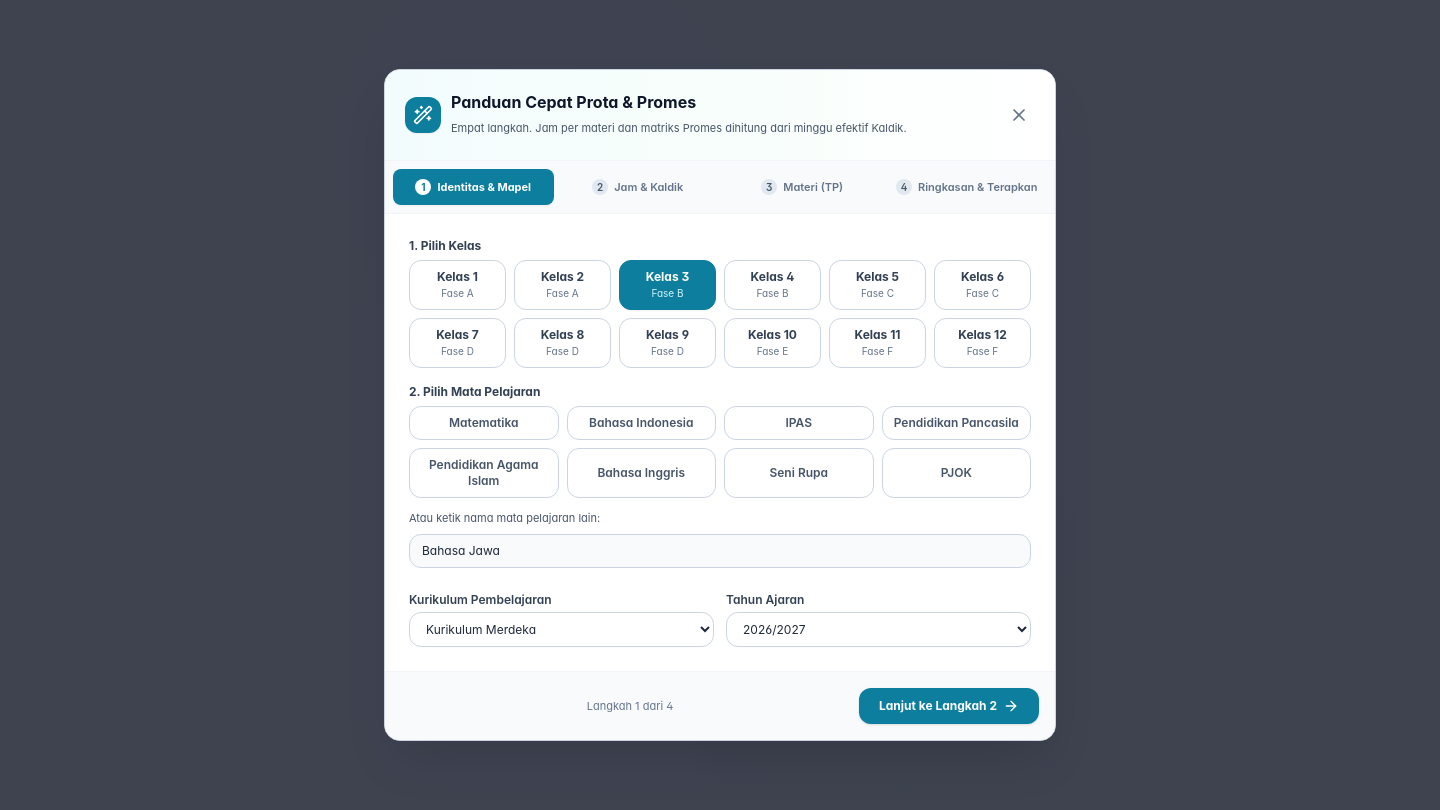
ProtaPromesWizardModal › shows the AI error and lets the teacher try again
Step 1. Click the button "Lanjut ke Langkah 2" → click(949, 706), box 859,688 -> 1039,724
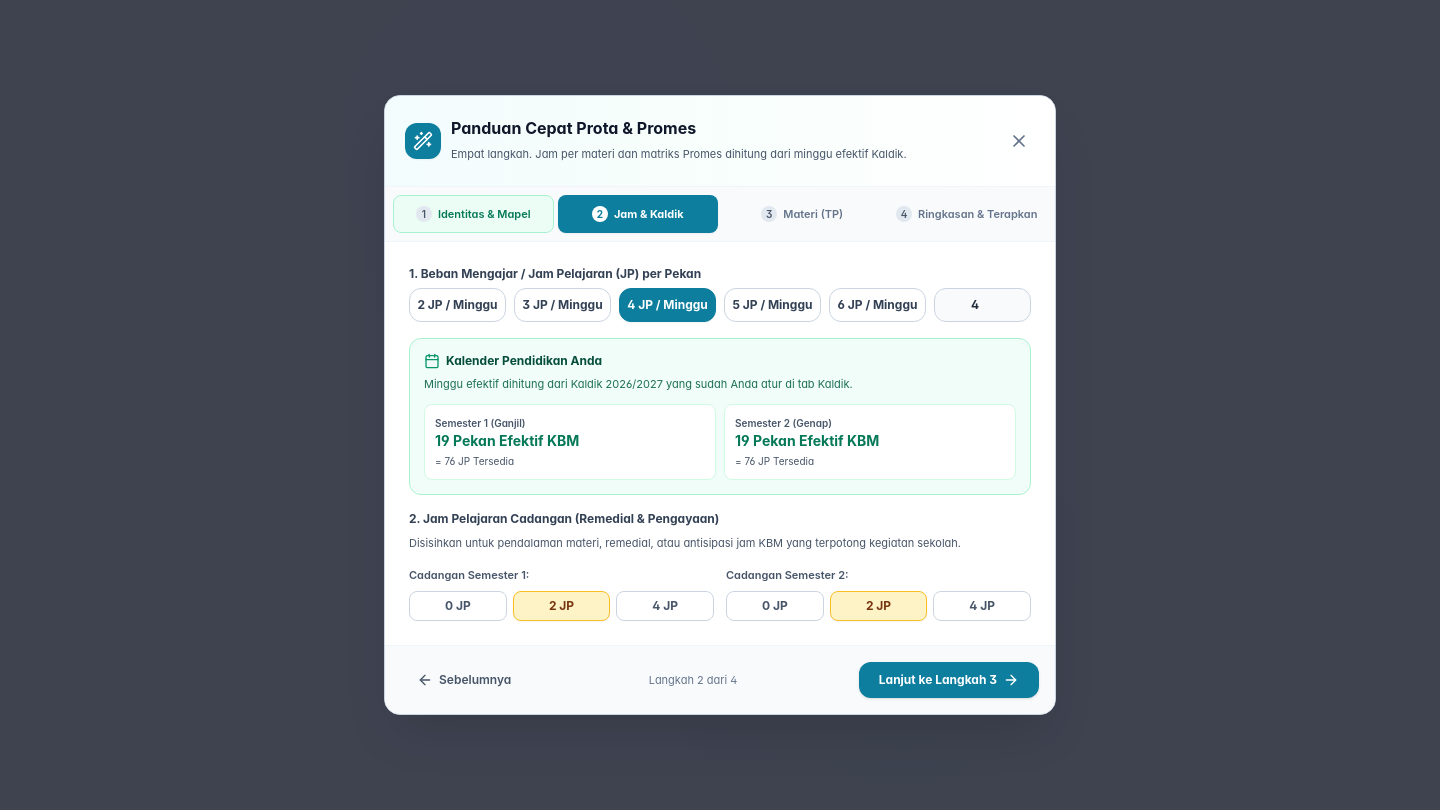
Step 2. Click the button "Lanjut ke Langkah 3" → click(949, 680), box 859,662 -> 1039,698
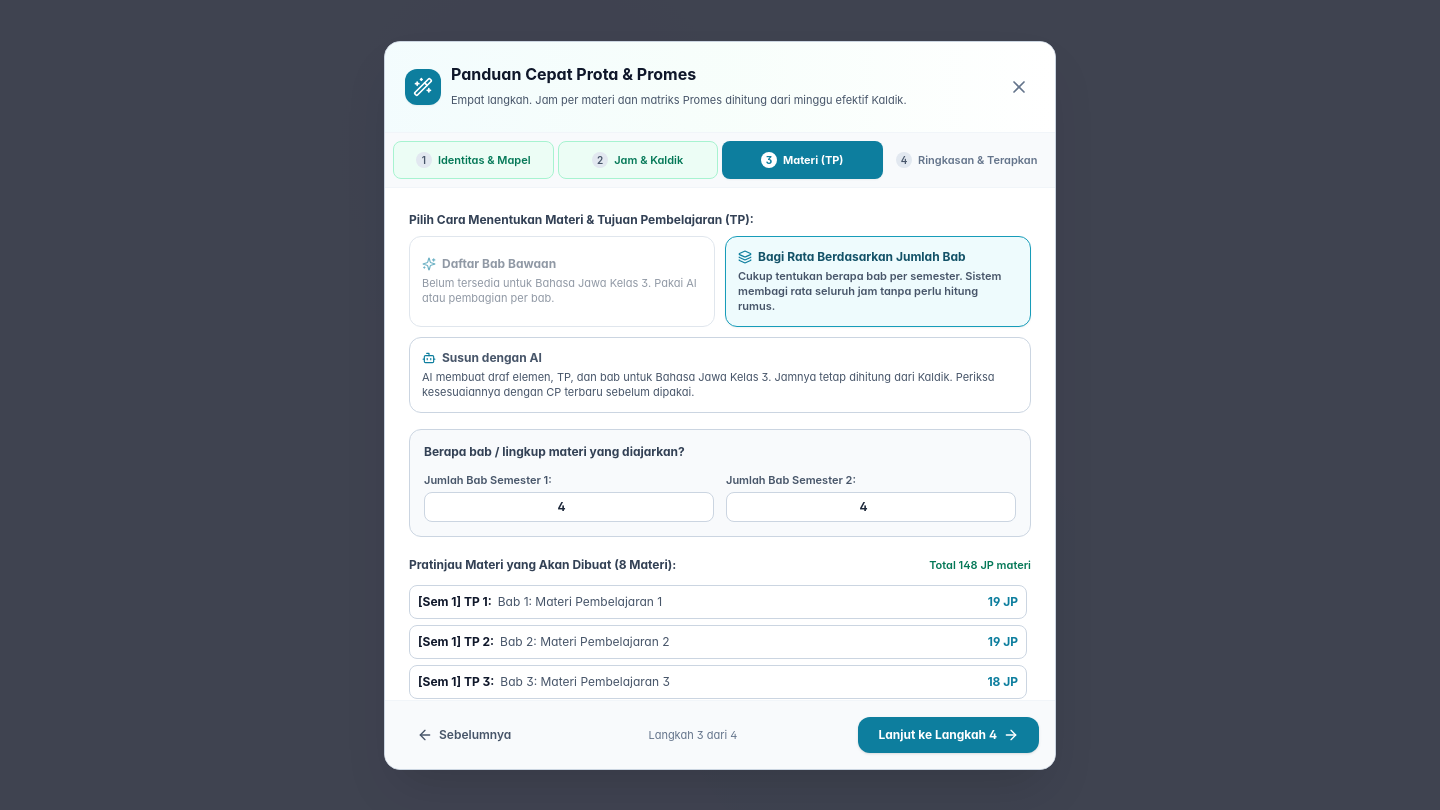
Step 3. Click the button "Susun dengan AI" → click(720, 375), box 409,337 -> 1031,413
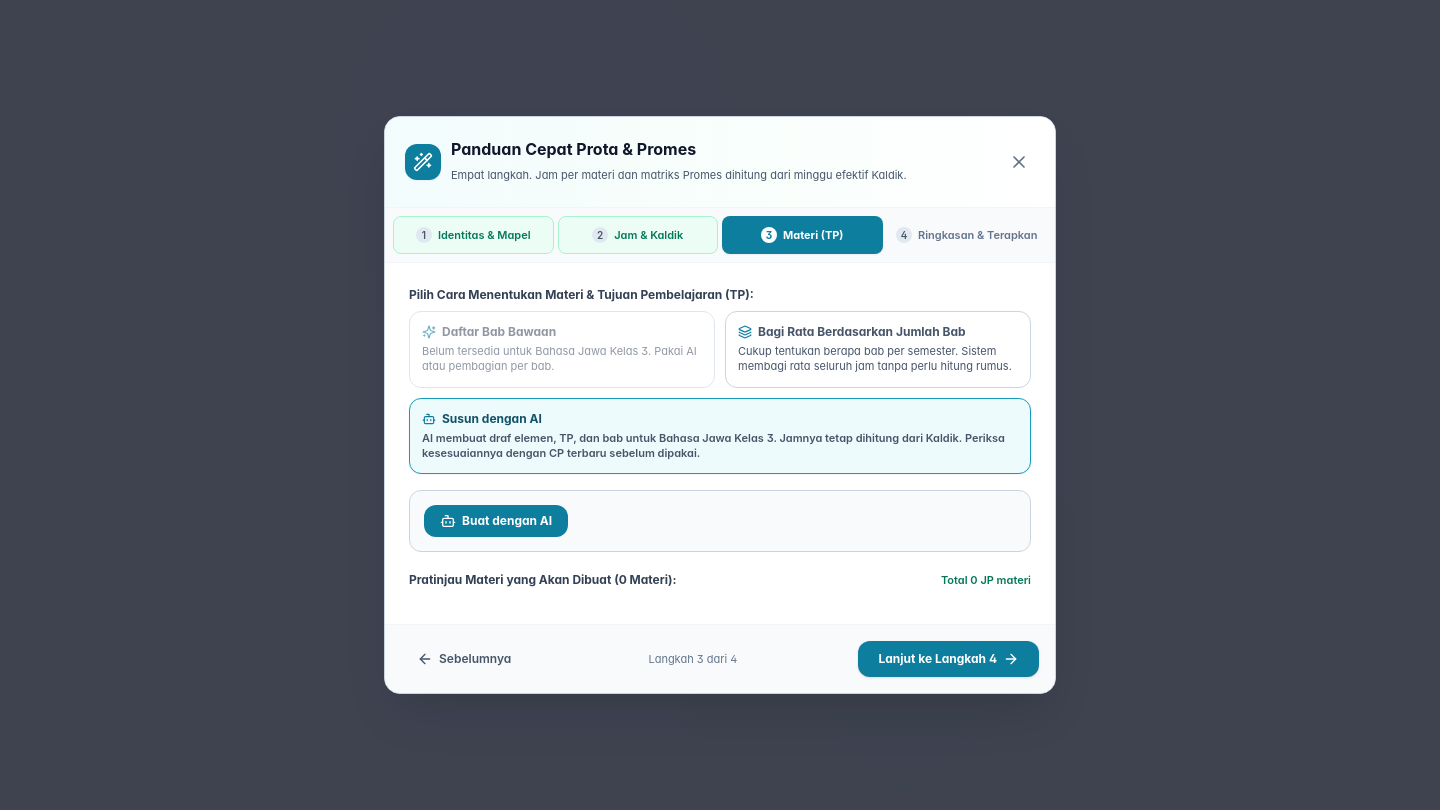
Step 4. Click the button "Buat dengan AI" → click(496, 521), box 424,505 -> 568,537
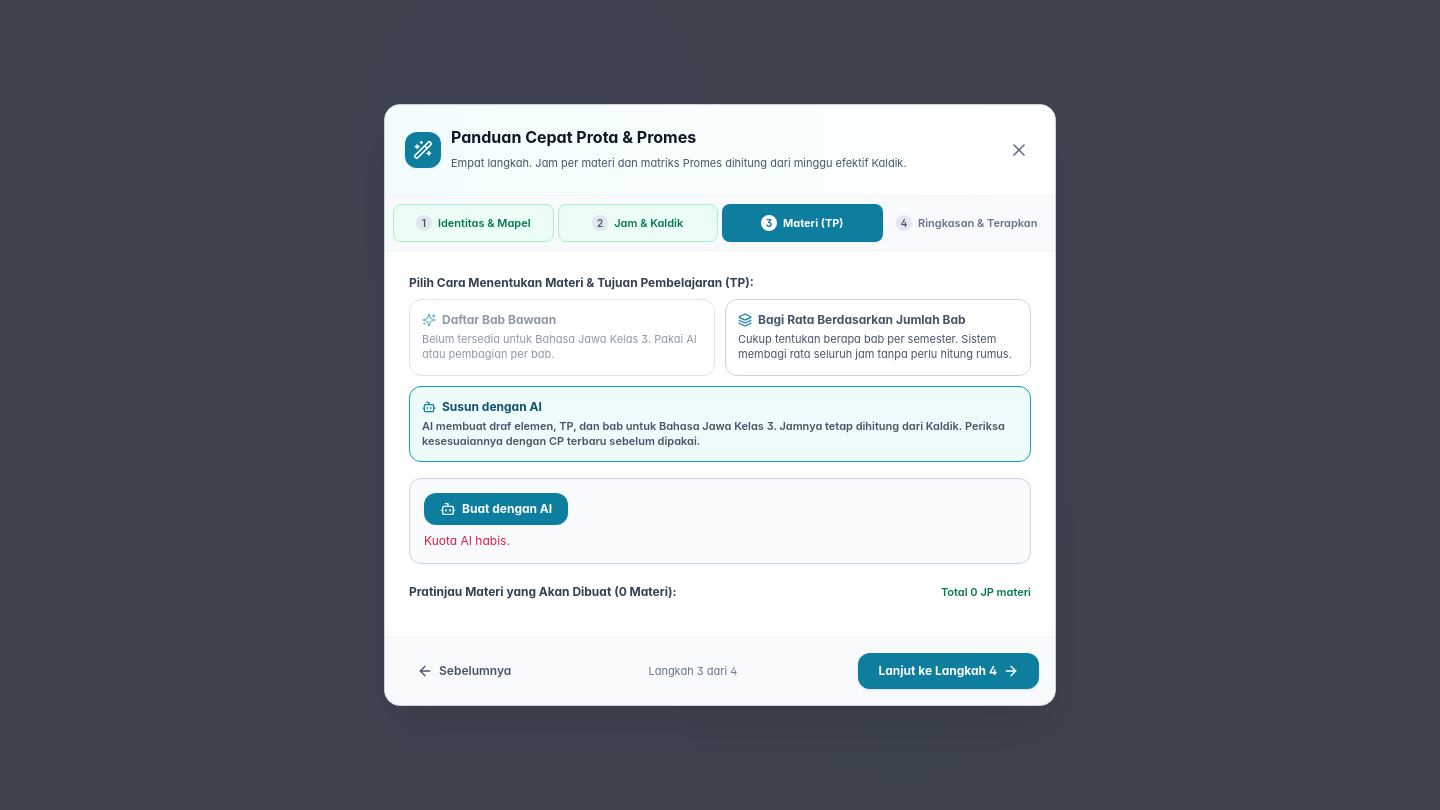
Now the button "Buat dengan AI" is enabled, box 424,493 -> 568,525
Now the text "Kuota AI habis." is shown, box 424,533 -> 510,548
